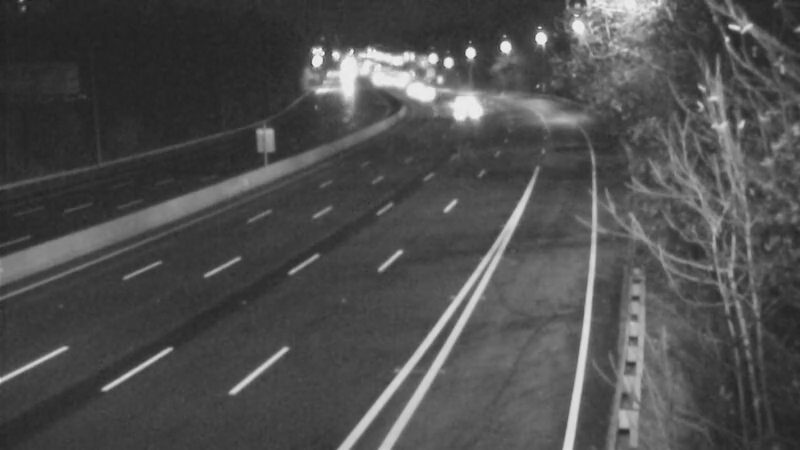vehicle: (388, 65, 438, 115), (399, 70, 449, 120), (442, 70, 492, 120), (439, 83, 489, 133)
